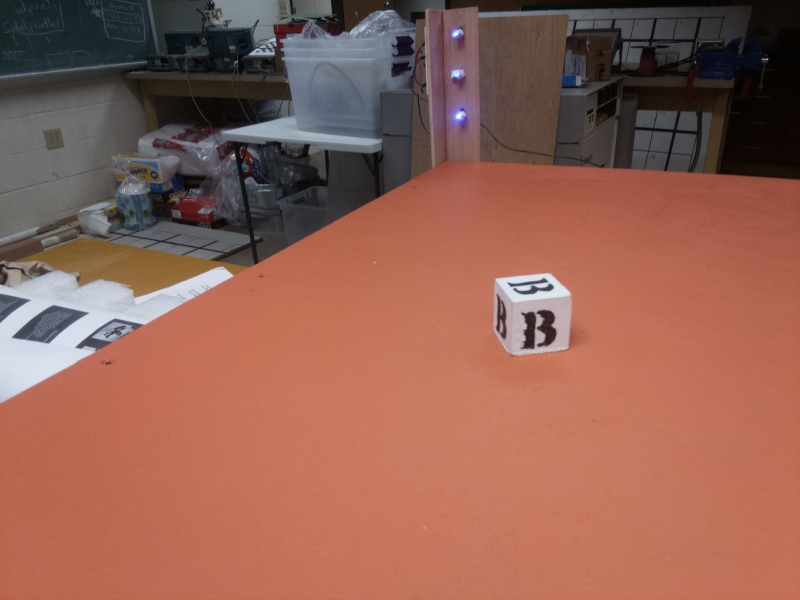blockB: (494, 272, 577, 356)
corner: (415, 8, 494, 165)
